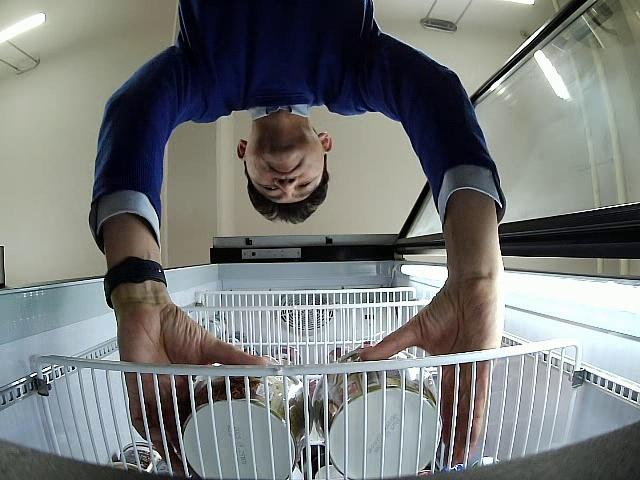00_hand: (360, 263, 505, 464), (111, 296, 268, 478)
03_chapagetti_L: (315, 348, 442, 480), (181, 357, 314, 479)
